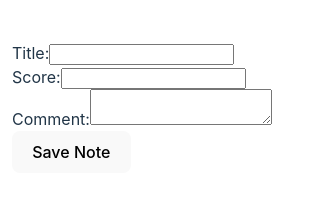
it: renders NoteForm and does not submit note with score above 20
Type "New Note" into the field labelled "Title:".
click(142, 55); type("New Note")  # box [49,44,234,65]
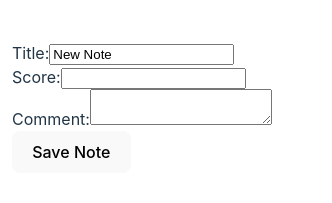
Type "25" into the number field labelled "Score:".
click(153, 79); type("25")  # box [61,68,246,89]
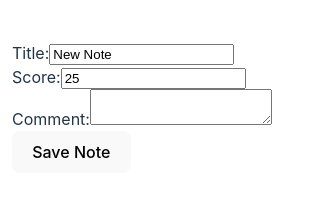
Type "This is a new note" into the text box labelled "Comment:".
click(181, 107); type("This is a new note")  # box [90,89,272,125]
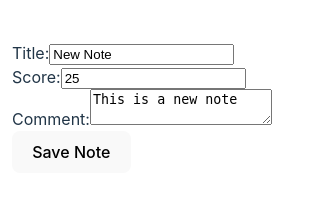
Click the button "Save Note".
click(71, 152)  # box [12,131,131,173]
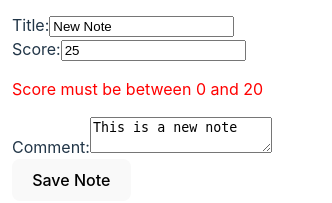
Expected: the text "Score must be between 0 and 20" is shown, [12,77,272,101]
